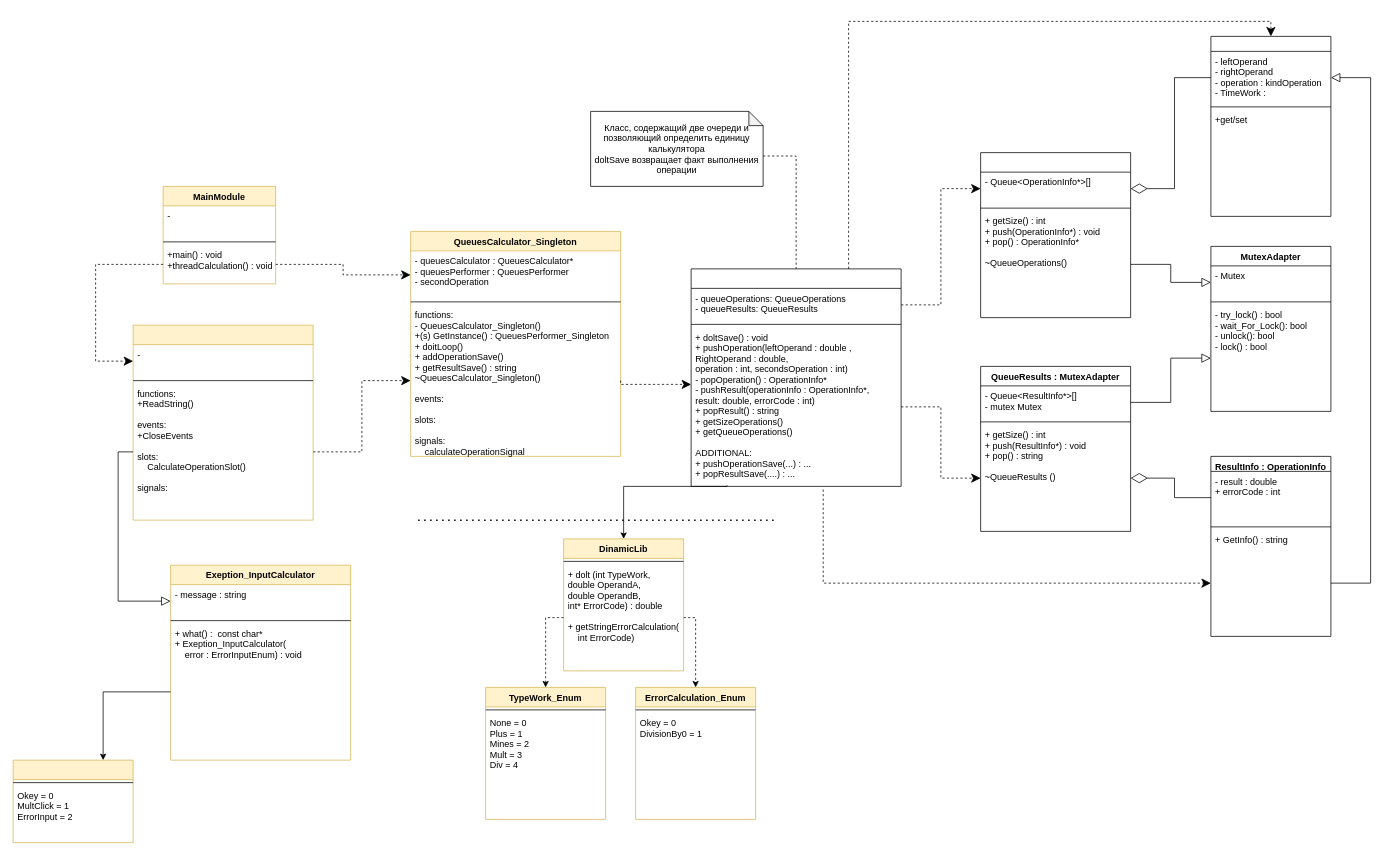
This 1393x858 diagram has some shape labels left out. The shapes that lost their labels are listed below. From the top down, each one's box as (x1, y1, x2, y2) in pixels, then its label:
(1210, 36, 1331, 216): OperationInfo
(980, 152, 1131, 318): QueueOperations : MutexAdapter
(690, 268, 901, 486): QueuesPerformer
(132, 324, 313, 520): MainWindow
(12, 759, 133, 843): ErrorInput_Enum
